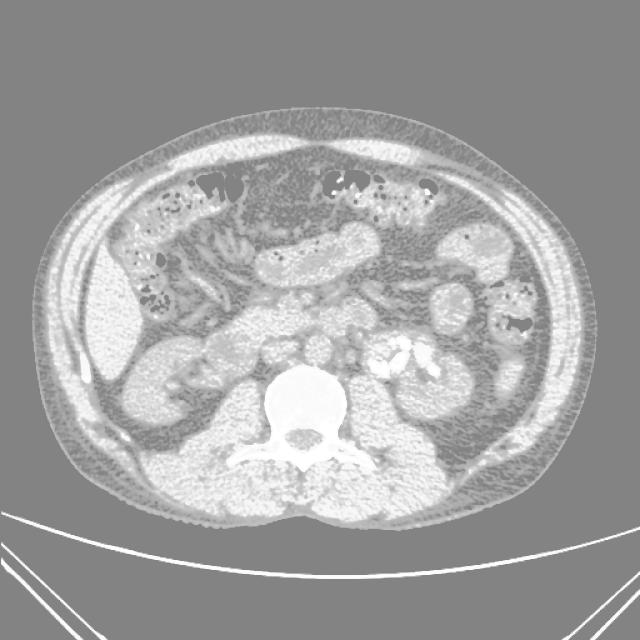STONE: (91, 120, 534, 398)
